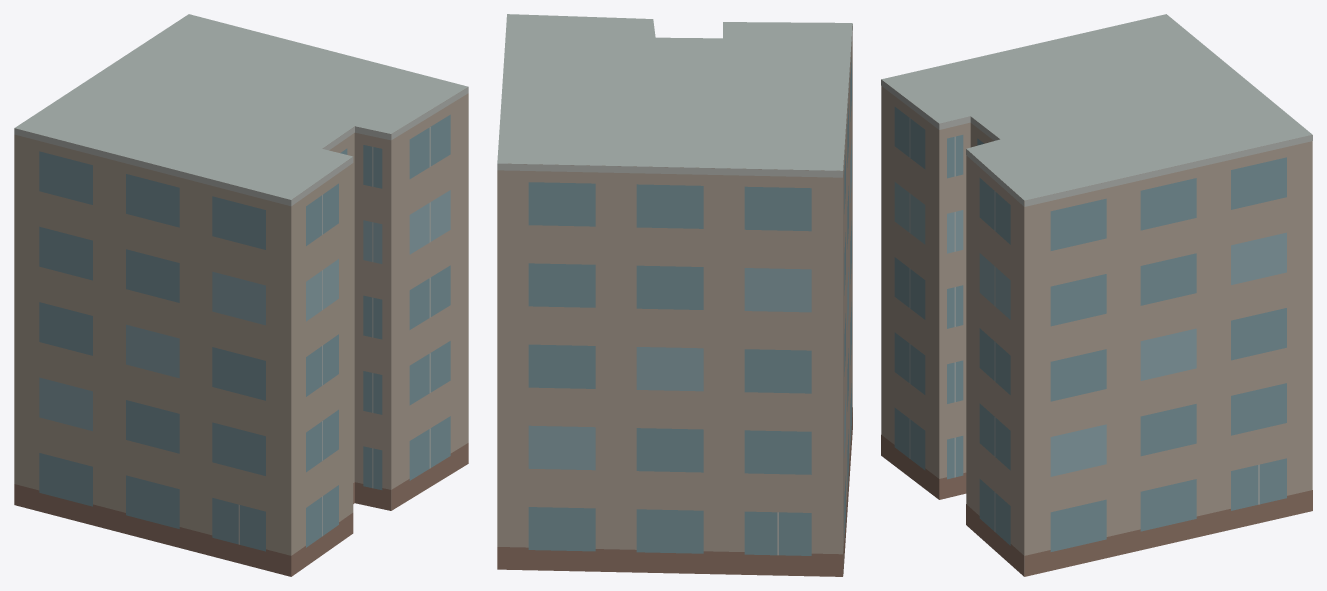
Rendered from survey-upis-32974697.glb.
3 views of the same model, side by side, from view 1: azimuth 30°, elevation 25°; view 2: azimuth 150°, elevation 25°; view 3: azimuth 270°, elevation 25° (orthographic). The views are drawn at different scales.
Visible parts, largest first — view 1: survey-upis-32974697.tmp; view 2: survey-upis-32974697.tmp; view 3: survey-upis-32974697.tmp.
Boxes of the visible parts, box(x1,y1,x2,y2) form: survey-upis-32974697.tmp: box(14, 14, 468, 576); survey-upis-32974697.tmp: box(497, 14, 852, 576); survey-upis-32974697.tmp: box(881, 14, 1312, 576).
Bounding box in the file's own units: 15.38 × 14.45 × 15.03.
